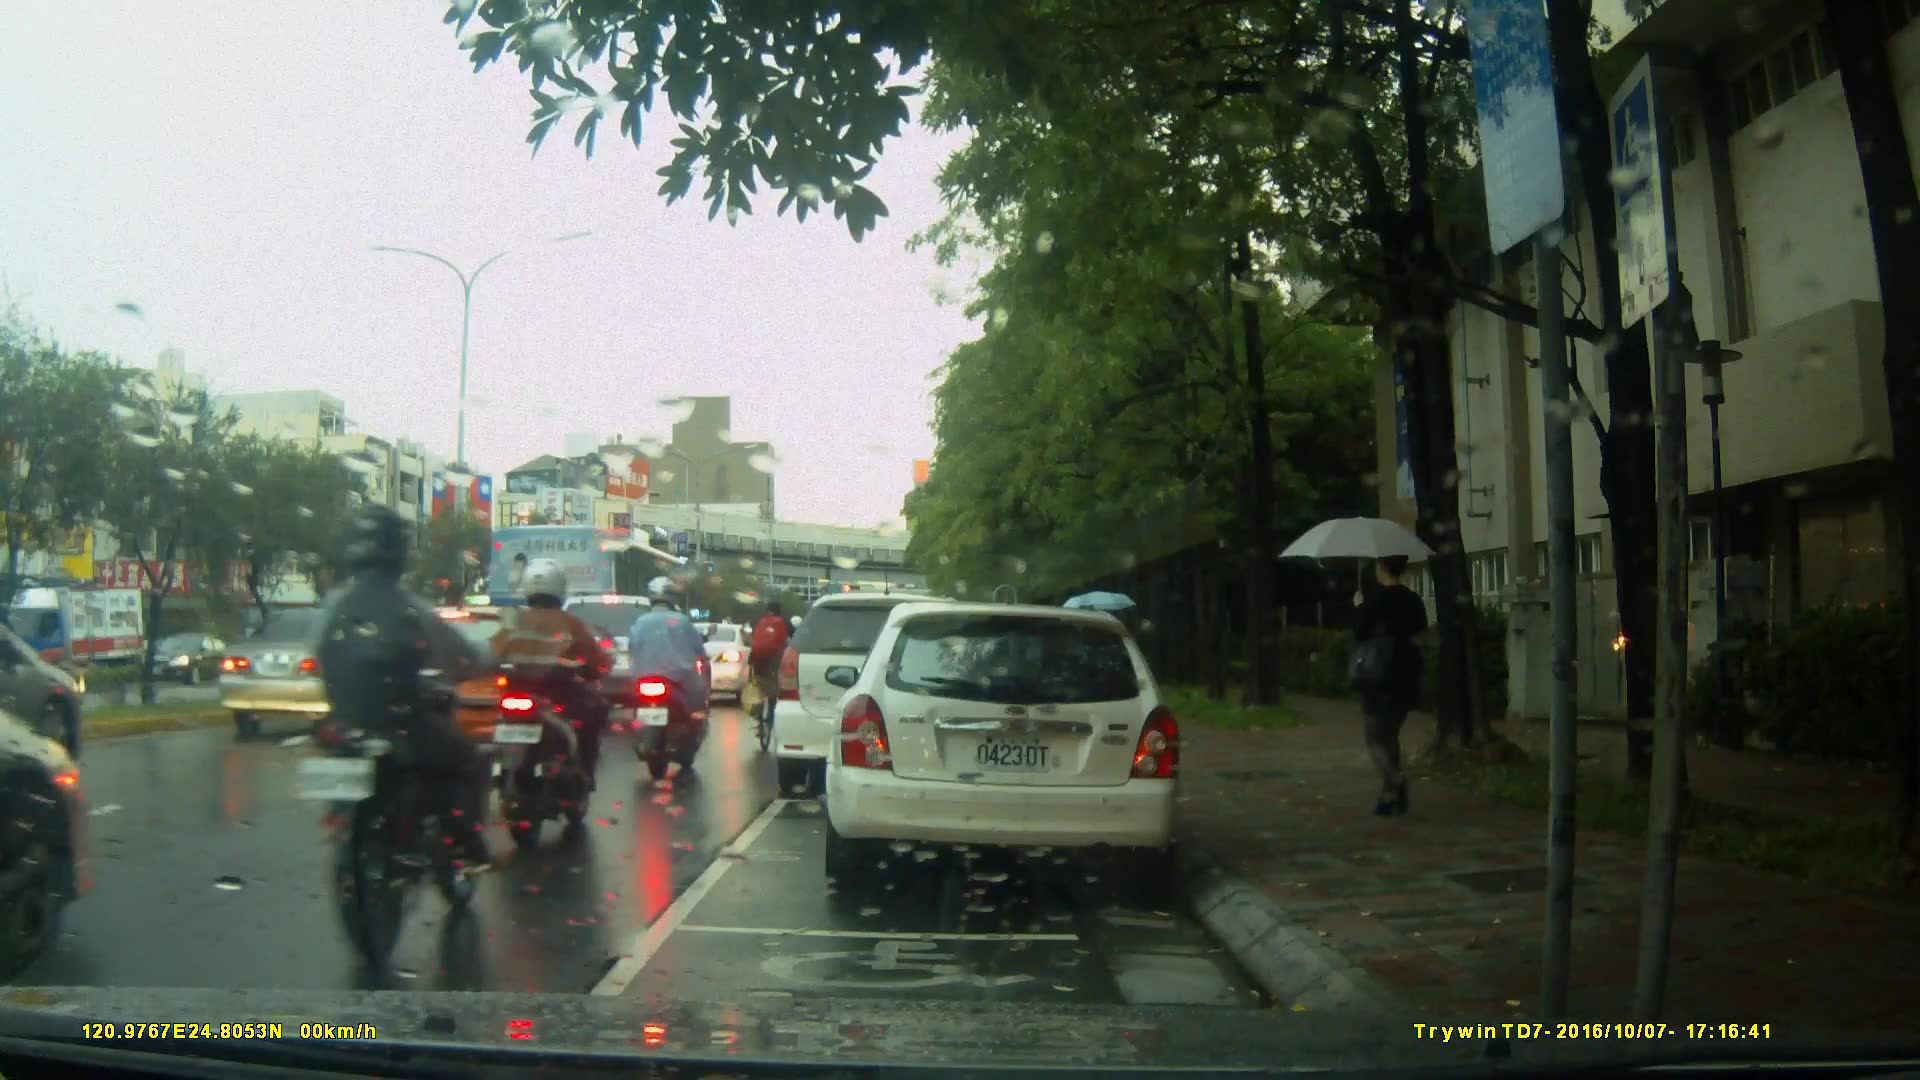pedestrian: (1313, 541, 1439, 823)
rider: (305, 505, 489, 948), (477, 555, 619, 834), (630, 576, 718, 780), (751, 598, 807, 749)
vehicle: (835, 594, 1194, 898), (776, 590, 1026, 784), (350, 604, 608, 776), (488, 522, 707, 669), (215, 607, 440, 740), (1, 586, 157, 697)
